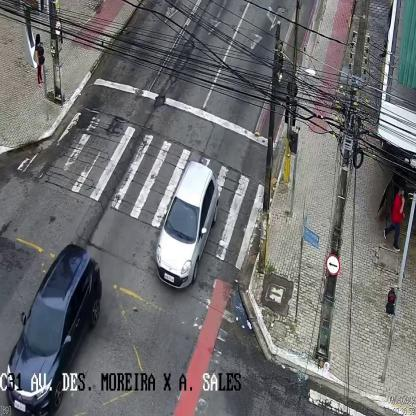car: (4, 244, 102, 416), (155, 161, 218, 291)
person: (382, 186, 404, 251), (33, 34, 45, 83)
